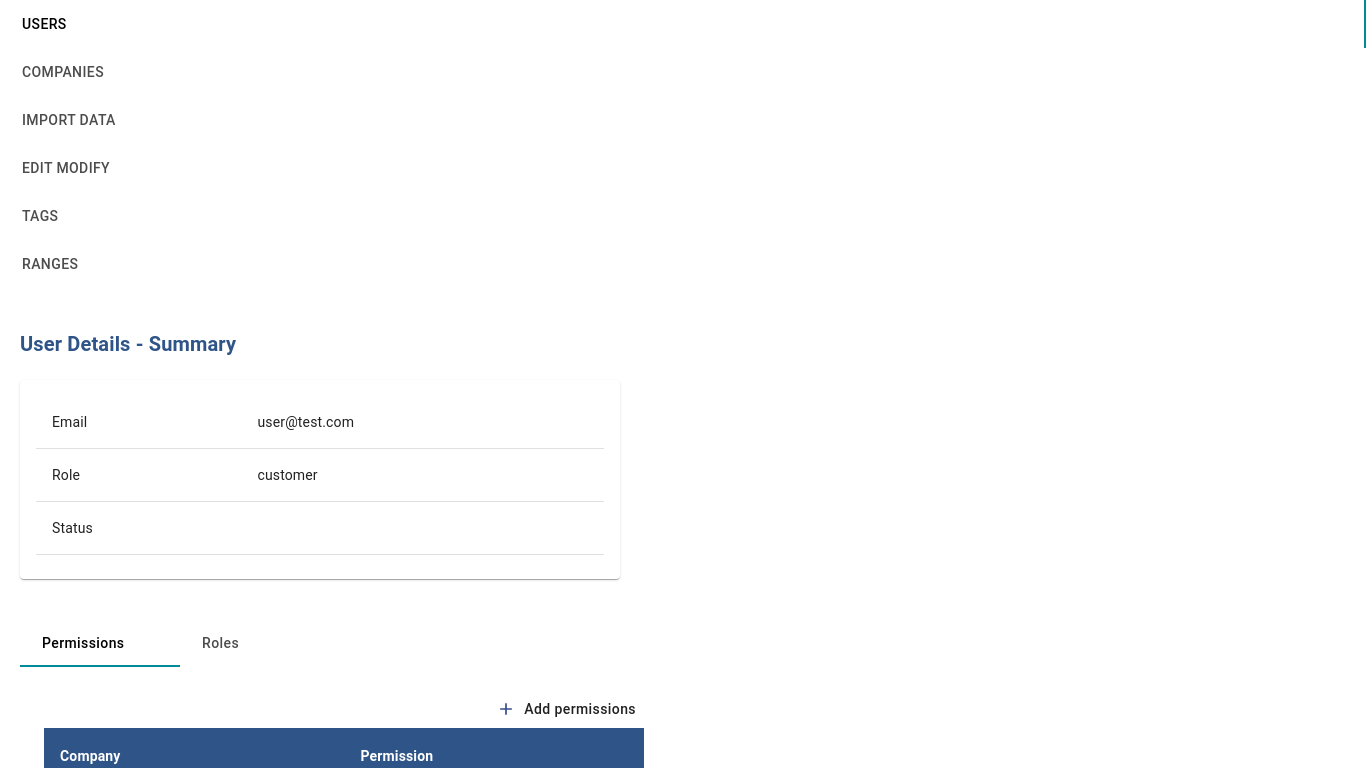
Test: <UserDetailsView /> › click on Add permissions should change main view
The image size is (1366, 768).
Click the button "Add permissions".
click(568, 709)  # box top-left (492, 691), bottom-right (644, 728)
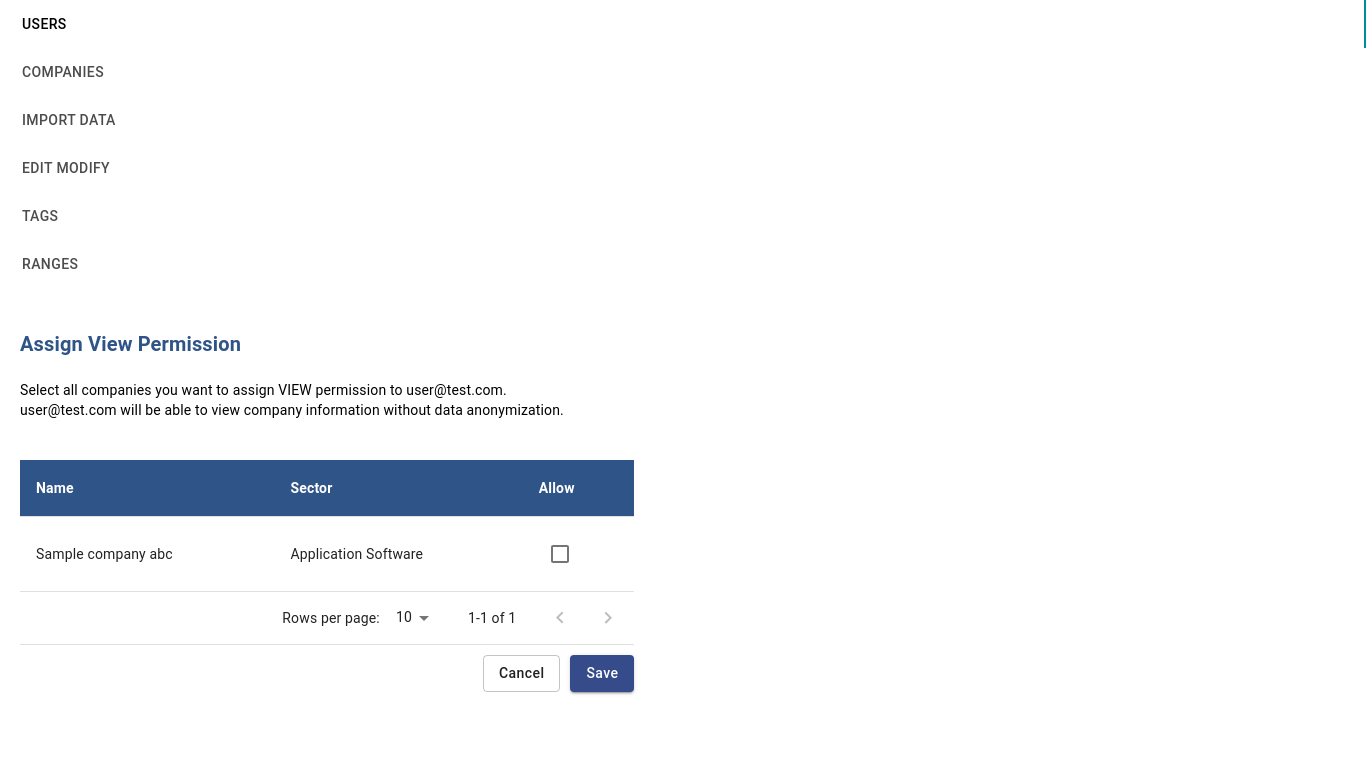
expect the heading "Assign View Permission" is shown: met, box top-left (20, 332), bottom-right (241, 356)
